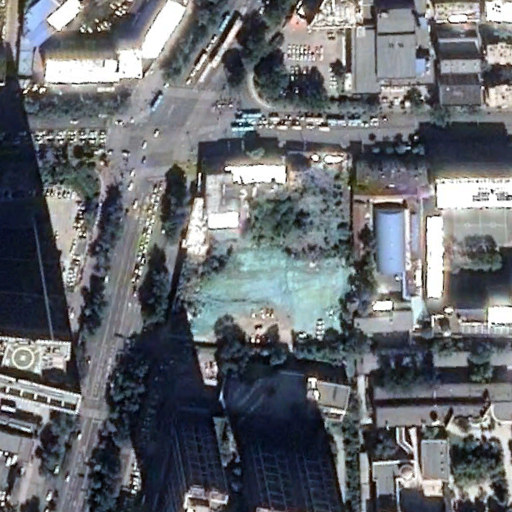cw: (171, 240, 354, 349)
